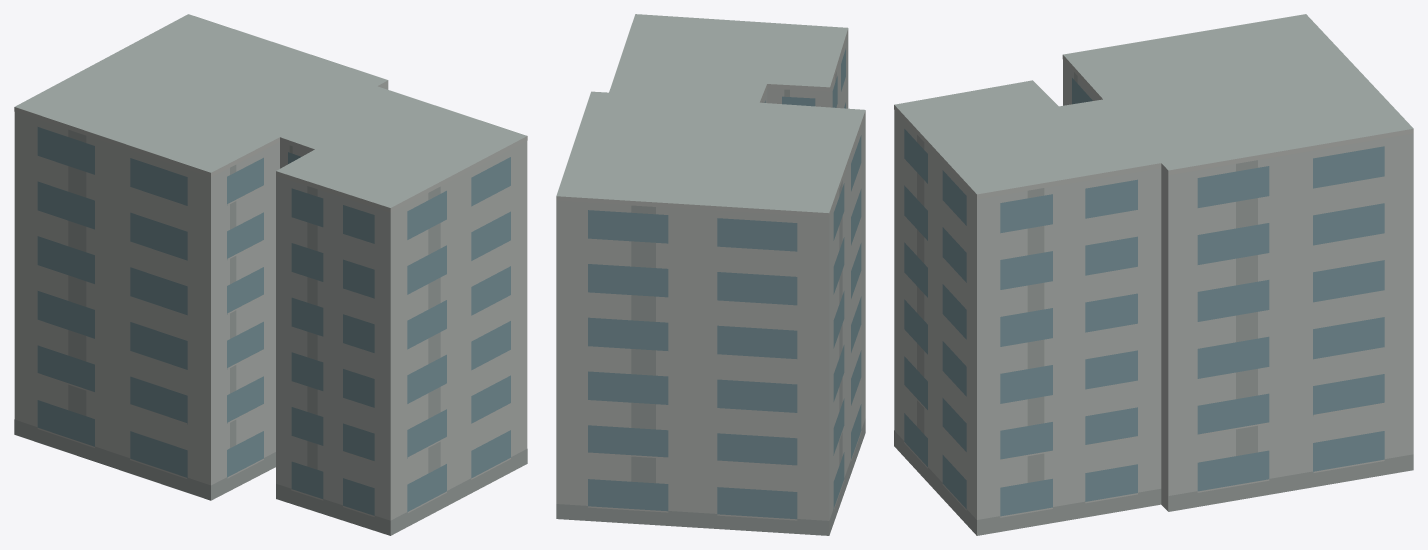
File: survey-upis-32616963.glb
The picture shows the model from 3 angles, left to right: view 1: azimuth 30°, elevation 25°; view 2: azimuth 150°, elevation 25°; view 3: azimuth 270°, elevation 25°; orthographic projection. The views are drawn at different scales.
Parts seen in each view (by area): view 1: survey-upis-32616963.tmp; view 2: survey-upis-32616963.tmp; view 3: survey-upis-32616963.tmp.
Part boxes in pixels (<box>): survey-upis-32616963.tmp: <box>14,14,527,535</box>; survey-upis-32616963.tmp: <box>556,14,865,535</box>; survey-upis-32616963.tmp: <box>894,14,1413,535</box>.
Bounding box in the file's own units: 19.27 × 17 × 23.45.
